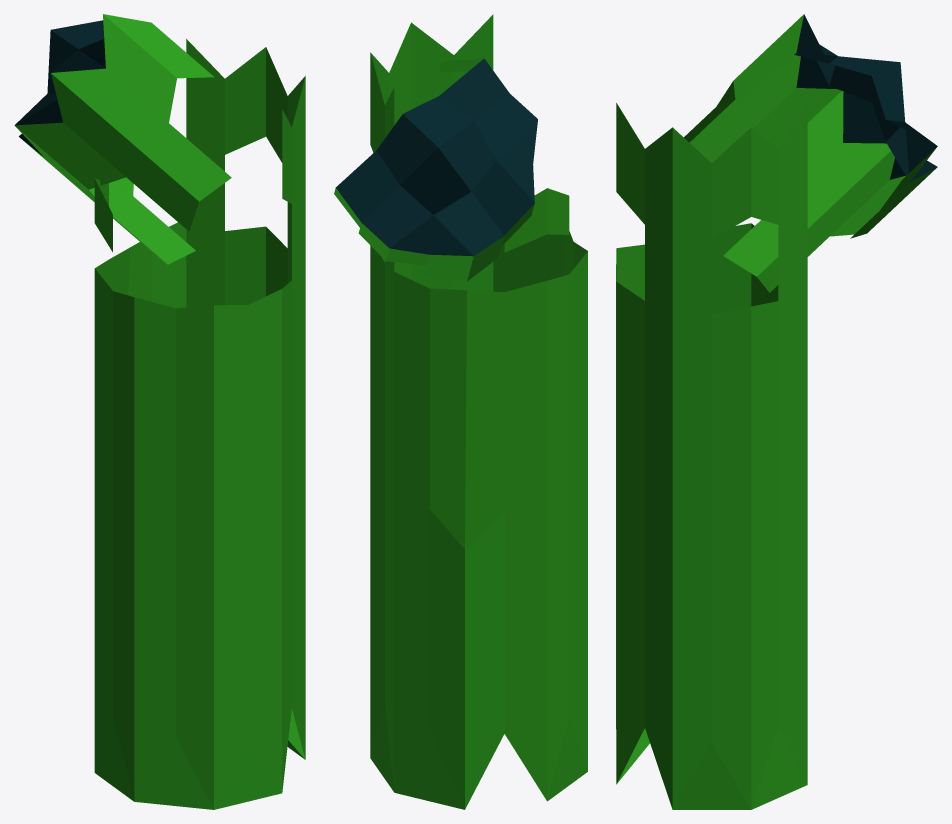
The model's file is archerytower1d.obj.
3 renders of one model, left to right at view 1: azimuth 30°, elevation 25°; view 2: azimuth 150°, elevation 25°; view 3: azimuth 270°, elevation 25°, orthographic. The views are drawn at different scales.
Parts seen in each view (by area): view 1: Cube, Cube.002, Cube.001; view 2: Cube, Cube.002, Cube.001; view 3: Cube, Cube.002, Cube.001.
Part boxes in pixels (x1=…): Cube: x1=94, y1=220, x2=305, y2=809; Cube.002: x1=14, y1=14, x2=231, y2=265; Cube.001: x1=94, y1=39, x2=305, y2=279; Cube: x1=370, y1=231, x2=587, y2=809; Cube.002: x1=334, y1=58, x2=537, y2=281; Cube.001: x1=370, y1=14, x2=569, y2=271; Cube: x1=616, y1=223, x2=807, y2=809; Cube.002: x1=684, y1=14, x2=937, y2=292; Cube.001: x1=616, y1=103, x2=807, y2=314.
Bounding box in the file's own units: 0.4435 × 1.5 × 0.5977.
